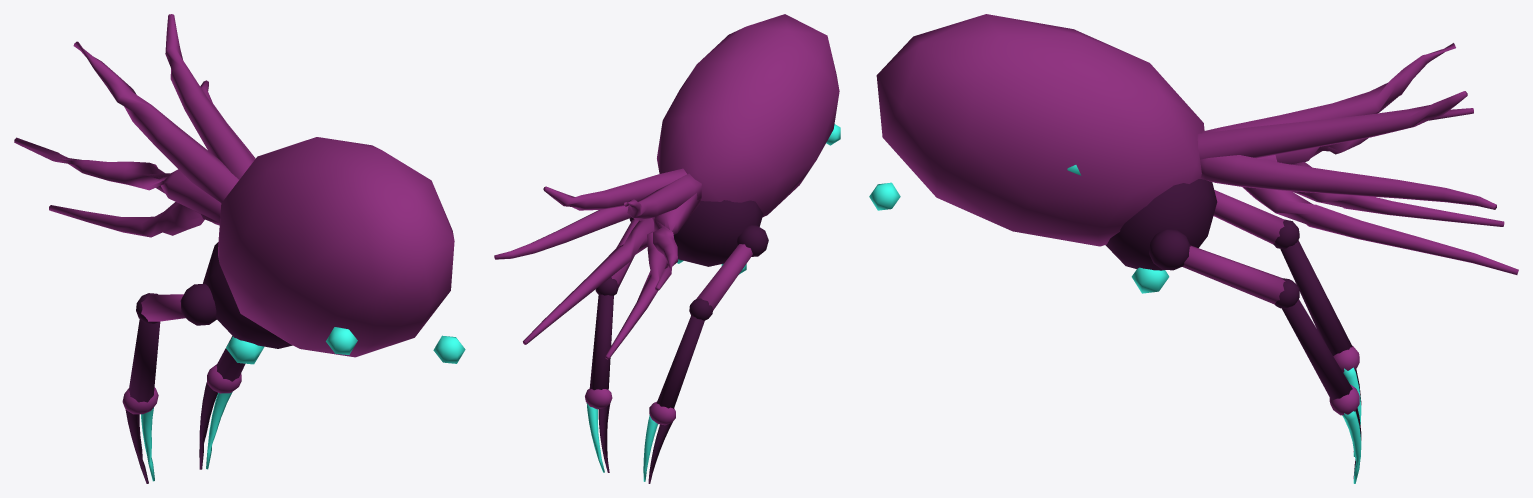
The model's file is shooter-squid.glb.
3 renders of one model, left to right at view 1: azimuth 30°, elevation 25°; view 2: azimuth 150°, elevation 25°; view 3: azimuth 270°, elevation 25°, orthographic. The views are drawn at different scales.
Visible parts, largest first — view 1: Body Mesh, Tail 2 Mesh, Tail 1 Mesh, Tail 3 Mesh, ClawR Elbow Mesh, Head Mesh, Tail 4 Mesh, ClawL Elbow Mesh, ClawR Mesh; view 2: Body Mesh, Head Mesh, ClawL Elbow Mesh, ClawR Elbow Mesh, Tail 5 Mesh, Tail 1 Mesh, ClawR Mesh, Tail 0 Mesh, Tail 2 Mesh, Tail 3 Mesh, Tail 4 Mesh, ClawL Mesh; view 3: Body Mesh, Tail 1 Mesh, Tail 0 Mesh, Head Mesh, Tail 5 Mesh, ClawL Elbow Mesh, ClawR Elbow Mesh, ClawL Mesh, Tail 2 Mesh, Tail 4 Mesh, ClawR Mesh, Tail 3 Mesh.
Boxes of the visible parts, x1,y1,x2,y2 form: Body Mesh: [218, 137, 465, 363]; Tail 2 Mesh: [73, 41, 238, 202]; Tail 1 Mesh: [165, 14, 254, 179]; Tail 3 Mesh: [14, 137, 221, 222]; ClawR Elbow Mesh: [122, 293, 160, 483]; Head Mesh: [203, 242, 292, 364]; Tail 4 Mesh: [49, 202, 219, 237]; ClawL Elbow Mesh: [199, 336, 245, 469]; ClawR Mesh: [141, 283, 216, 325]; Body Mesh: [657, 14, 840, 217]; Head Mesh: [673, 200, 763, 274]; ClawL Elbow Mesh: [585, 277, 618, 472]; ClawR Elbow Mesh: [643, 298, 712, 483]; Tail 5 Mesh: [523, 218, 654, 344]; Tail 1 Mesh: [543, 168, 686, 210]; ClawR Mesh: [696, 225, 768, 310]; Tail 0 Mesh: [494, 206, 631, 259]; Tail 2 Mesh: [624, 173, 701, 220]; Tail 3 Mesh: [653, 193, 700, 290]; Tail 4 Mesh: [605, 217, 667, 359]; ClawL Mesh: [611, 217, 638, 287]; Body Mesh: [869, 14, 1204, 246]; Tail 1 Mesh: [1197, 91, 1467, 159]; Tail 0 Mesh: [1200, 155, 1496, 209]; Head Mesh: [1105, 179, 1217, 293]; Tail 5 Mesh: [1242, 157, 1518, 274]; ClawL Elbow Mesh: [1275, 278, 1361, 483]; ClawR Elbow Mesh: [1273, 219, 1361, 456]; ClawL Mesh: [1149, 229, 1285, 304]; Tail 2 Mesh: [1202, 43, 1455, 133]; Tail 4 Mesh: [1262, 155, 1504, 226]; ClawR Mesh: [1213, 190, 1285, 244]; Tail 3 Mesh: [1275, 108, 1473, 164].
Bounding box in the file's own units: 0.735 × 1.55 × 2.05.
2 materials, 2 textured.
